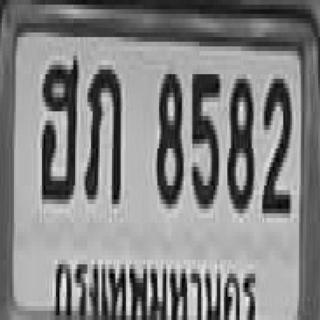A32: (83, 62, 120, 197)
A44: (40, 53, 77, 197)
N02: (261, 74, 290, 209)
N05: (190, 70, 218, 204)
N08: (226, 74, 252, 209), (156, 70, 182, 204)
P04: (49, 243, 264, 320)
